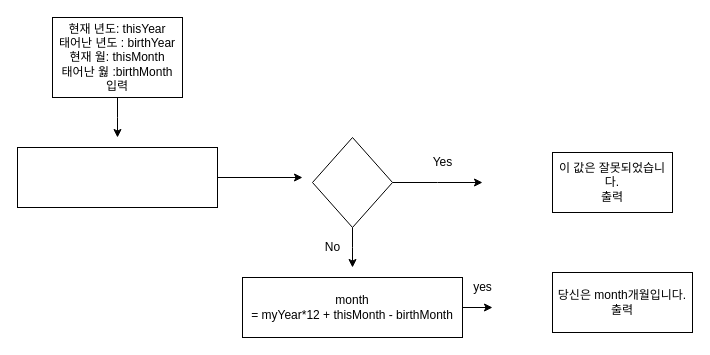
This 710x355 diagram has some shape labels left out. The centre of each missing label's shape, as x and y in pixels:
"IF myYear < 0" goes at pixel 352 182.
"myYear = thisYear - birthYear" goes at pixel 117 177.
